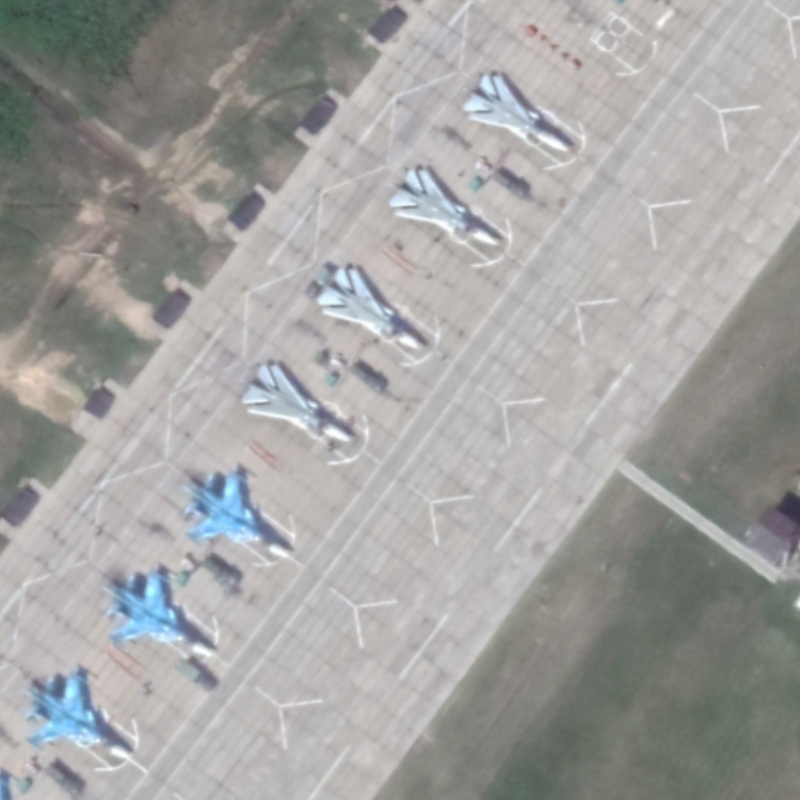A19: (179, 467, 294, 562), (101, 567, 217, 660), (21, 670, 135, 762)
A20: (239, 362, 355, 446), (314, 265, 425, 352), (386, 167, 501, 249), (461, 71, 573, 155)
